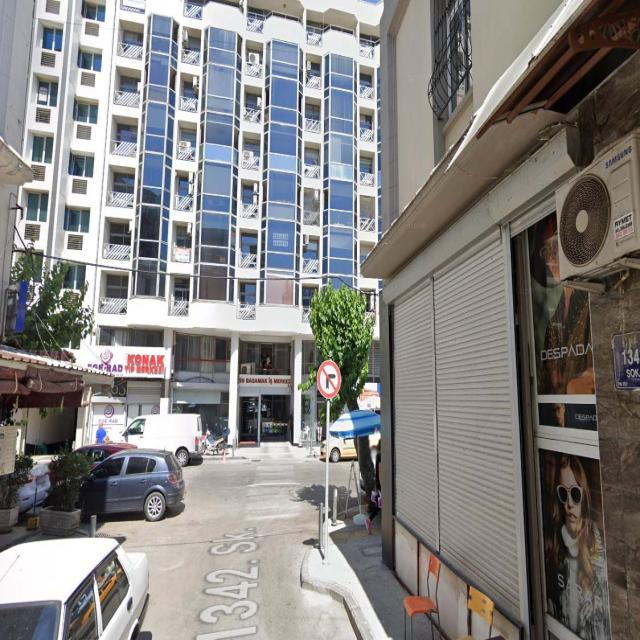sagadonulmez: (318, 360, 339, 398)
